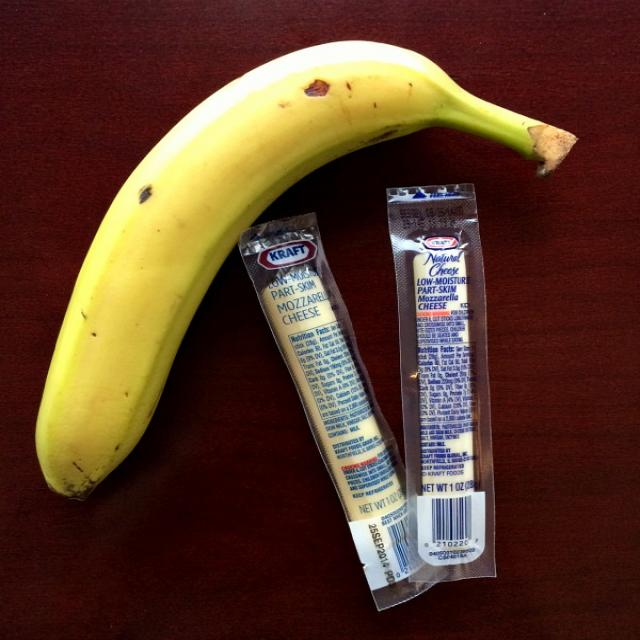Banana: (38, 40, 577, 492)
